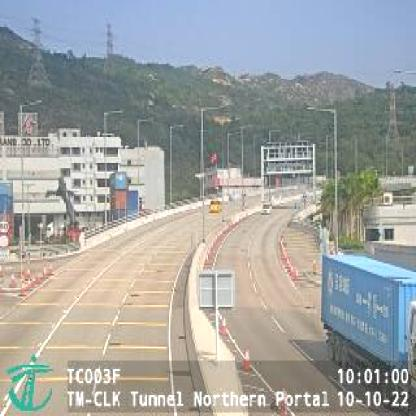Car: (260, 201, 272, 216), (210, 199, 221, 212)
Truck: (320, 253, 416, 404)
